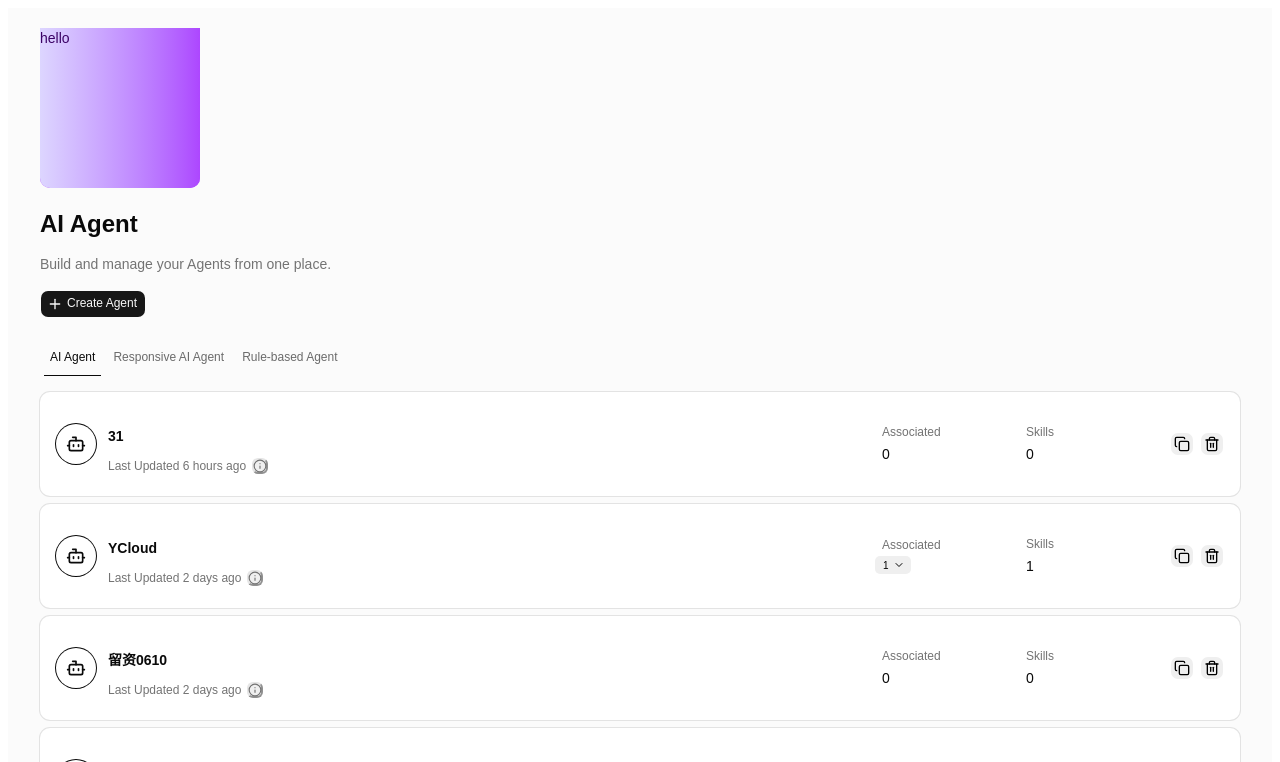
Test: App › shows associated phone numbers when clicking an associated count
Click the button named "View associated contacts for YCloud" at (893, 565), box x1=874 y1=555 x2=912 y2=575
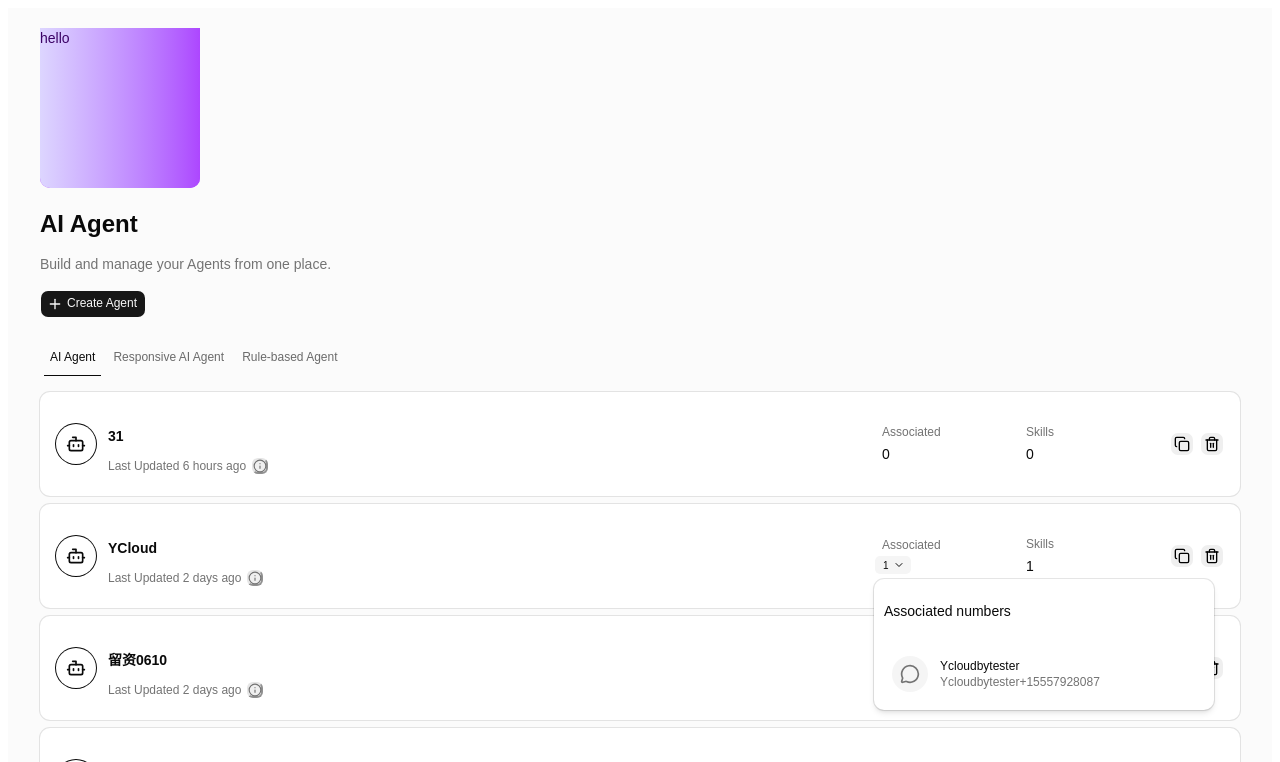
Now the text "Ycloudbytester" is shown, box x1=940 y1=659 x2=1019 y2=673
Now the text "Ycloudbytester+15557928087" is shown, box x1=940 y1=674 x2=1100 y2=690
